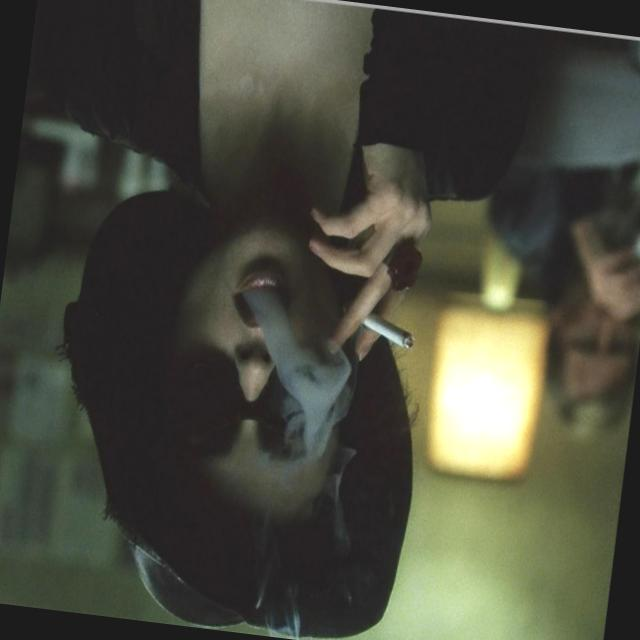smoke: (332, 292, 434, 382)
